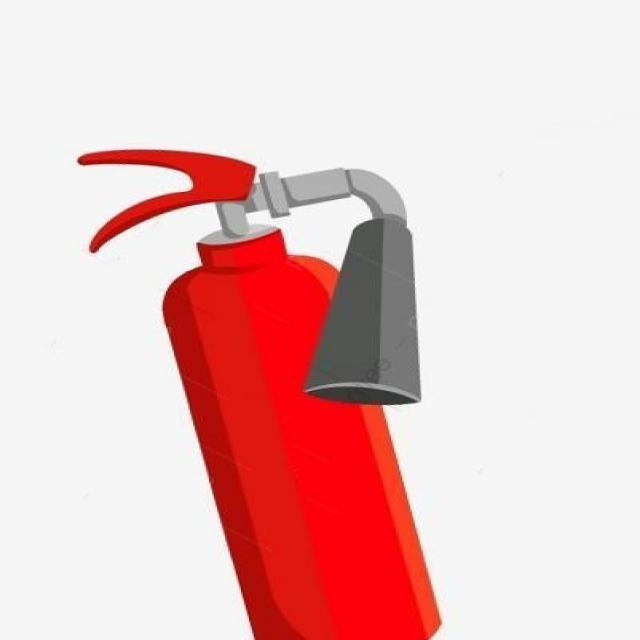fire_extinguisher: (70, 140, 452, 638)
